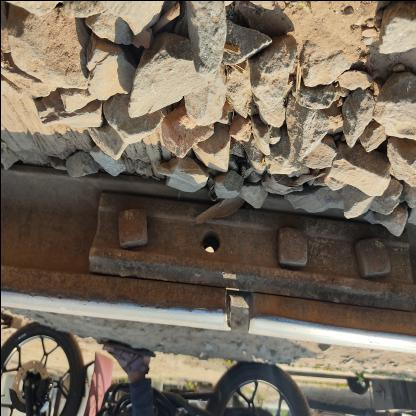Defective 2: (190, 278, 284, 362)
Defective 3: (88, 184, 407, 308)
